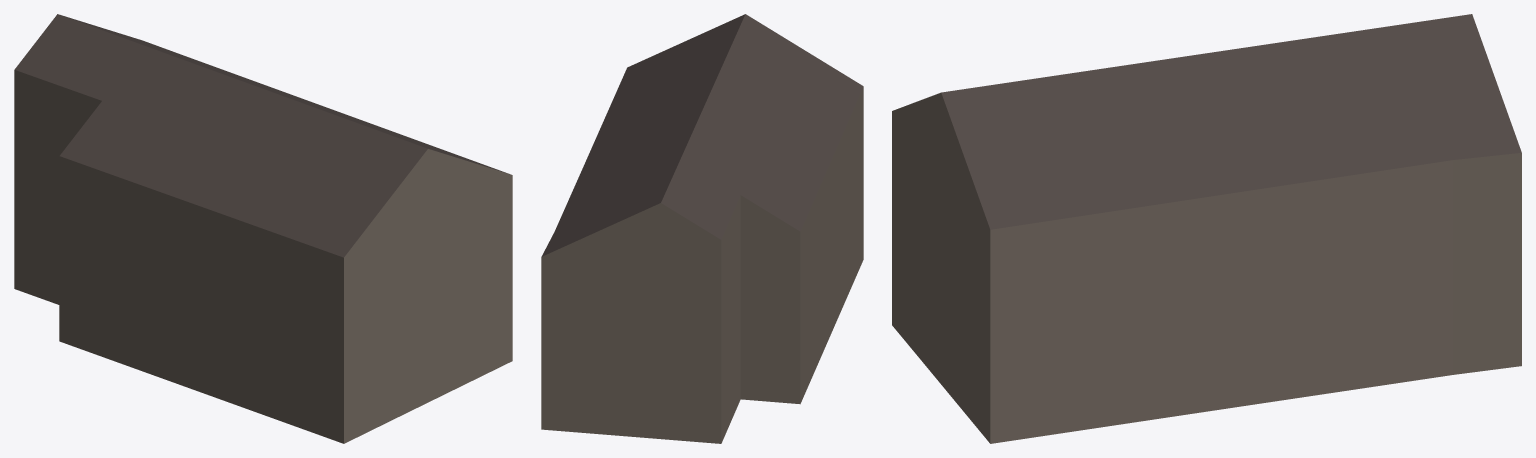
The picture shows the model from 3 angles, left to right: view 1: azimuth 30°, elevation 25°; view 2: azimuth 150°, elevation 25°; view 3: azimuth 270°, elevation 25°; orthographic projection. The views are drawn at different scales.
Visible parts, largest first — view 1: HP-w1198645076; view 2: HP-w1198645076; view 3: HP-w1198645076.
Part boxes in pixels (<box>): HP-w1198645076: <box>14,14,512,443</box>; HP-w1198645076: <box>541,14,863,443</box>; HP-w1198645076: <box>892,14,1521,443</box>.
Size of the model in its own units: 10.82 by 8.21 by 16.05.
